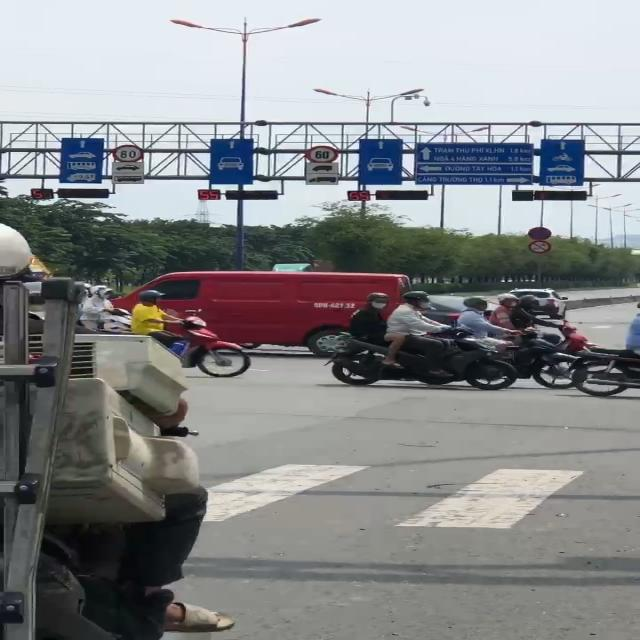Bien bao toc do toi da cho phep: (110, 143, 145, 164), (306, 146, 340, 166)
